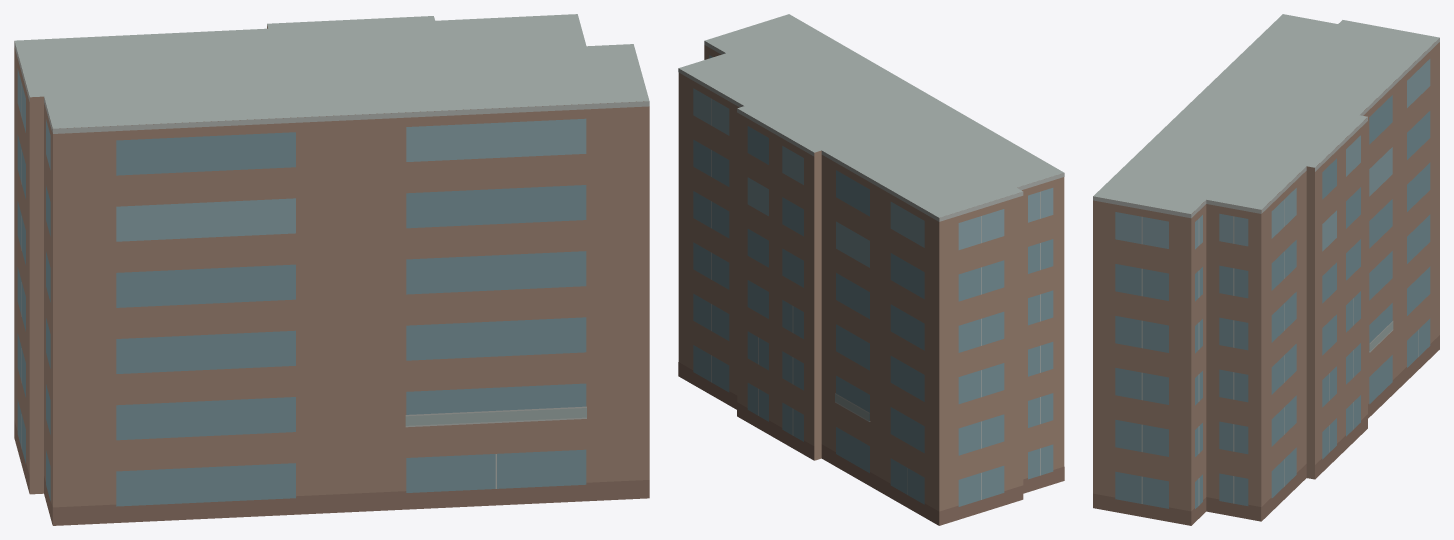
The model's file is survey-upis-32987289.glb.
The picture shows the model from 3 angles, left to right: view 1: azimuth 30°, elevation 25°; view 2: azimuth 150°, elevation 25°; view 3: azimuth 270°, elevation 25°; orthographic projection. The views are drawn at different scales.
Parts seen in each view (by area): view 1: survey-upis-32987289.tmp; view 2: survey-upis-32987289.tmp; view 3: survey-upis-32987289.tmp.
Boxes of the visible parts, <box> form: survey-upis-32987289.tmp: <box>14,14,649,525</box>; survey-upis-32987289.tmp: <box>678,14,1064,525</box>; survey-upis-32987289.tmp: <box>1093,14,1439,525</box>.
Size of the model in its own units: 25.21 by 18.3 by 18.46.
